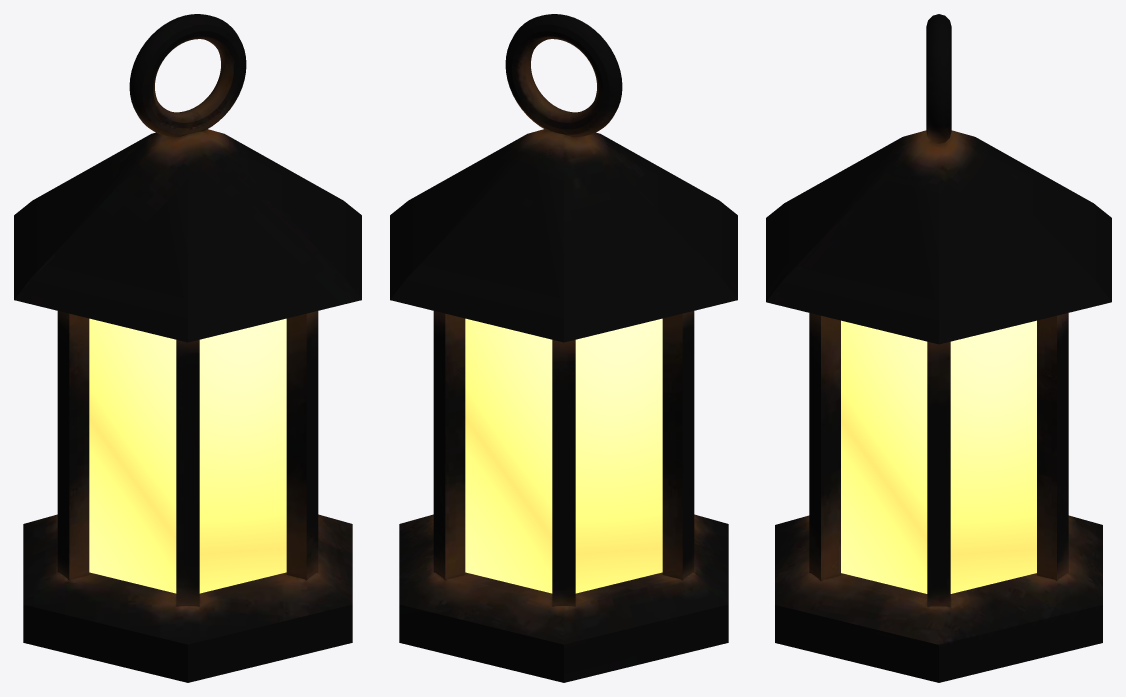
Rendered from lantern.glb.
3 renders of one model, left to right at view 1: azimuth 30°, elevation 25°; view 2: azimuth 150°, elevation 25°; view 3: azimuth 270°, elevation 25°, orthographic.
Visible parts, largest first — view 1: Lantern, GlowLantern; view 2: Lantern, GlowLantern; view 3: Lantern, GlowLantern.
Part boxes in pixels (left/top/right/bottom): Lantern: left=14, top=14, right=361, bottom=682; GlowLantern: left=89, top=318, right=286, bottom=593; Lantern: left=390, top=14, right=737, bottom=682; GlowLantern: left=465, top=318, right=662, bottom=593; Lantern: left=766, top=14, right=1111, bottom=682; GlowLantern: left=841, top=320, right=1036, bottom=593.
Size of the model in its own units: 0.38 by 0.612 by 0.3291.
Materials: 2 (1 with a texture image).
